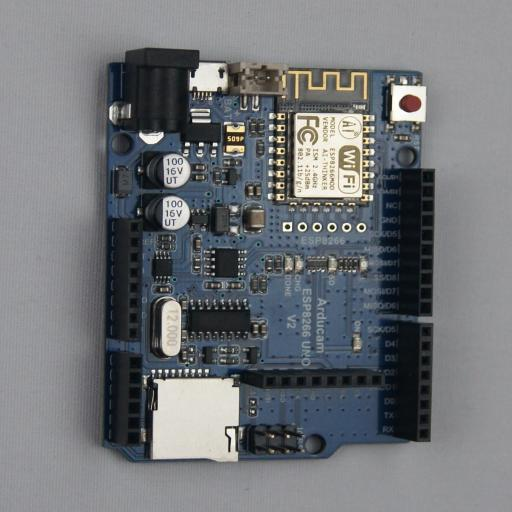Arduino Uno Camera Shield: (83, 47, 435, 464)
